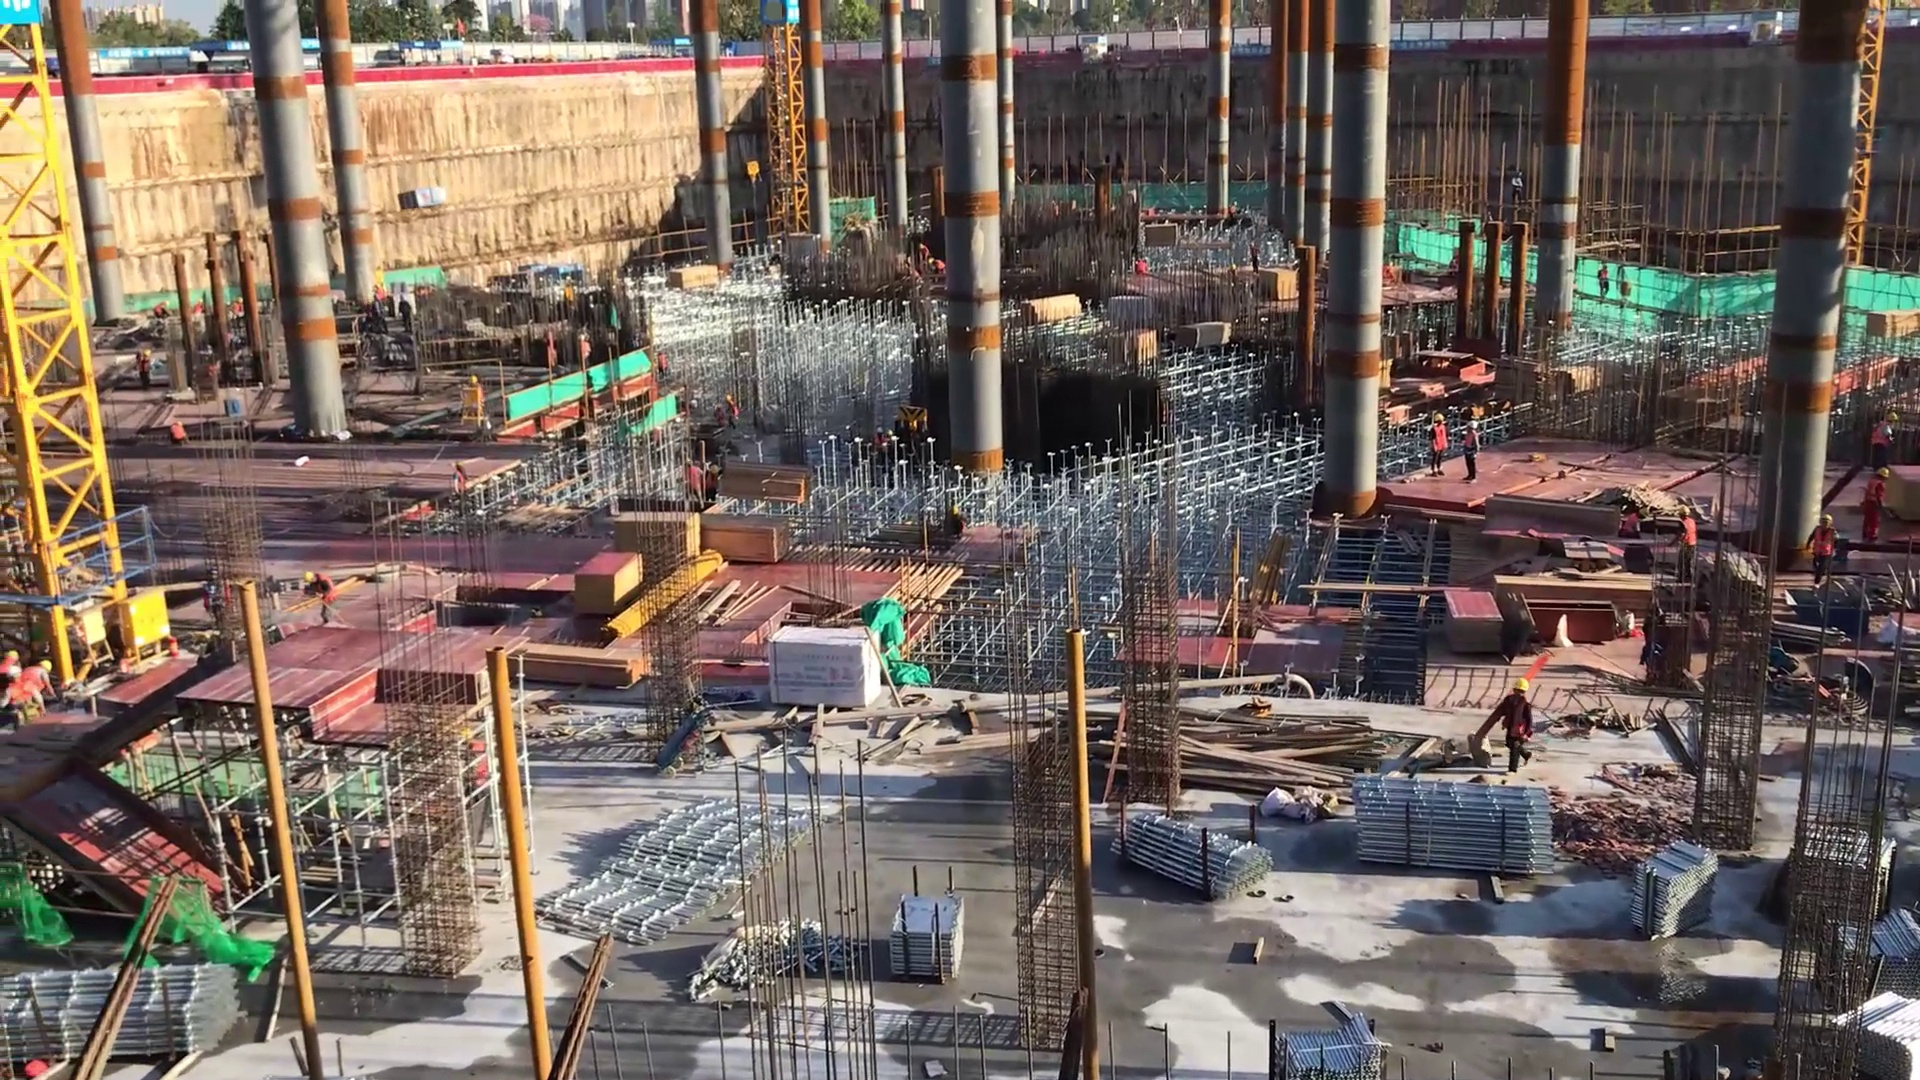board: (617, 510, 702, 567), (574, 548, 641, 617), (1444, 585, 1506, 660), (1258, 265, 1300, 304)
ebox: (119, 582, 175, 677), (72, 597, 108, 672), (461, 377, 490, 427)
helmet: (36, 657, 59, 676), (299, 567, 320, 588), (1511, 675, 1532, 694), (1676, 504, 1694, 518), (1818, 513, 1833, 532), (6, 649, 21, 666), (1876, 468, 1891, 485), (1637, 502, 1650, 519), (709, 462, 722, 479), (1467, 417, 1479, 432), (1435, 410, 1447, 426), (1887, 410, 1900, 423), (876, 423, 886, 437), (726, 390, 734, 405), (579, 332, 586, 343)
hook: (1783, 586, 1872, 637), (893, 401, 937, 442), (745, 153, 765, 188)
hopper: (404, 184, 443, 214)
person: (1491, 672, 1540, 783), (1666, 498, 1707, 589), (1860, 469, 1896, 567), (1804, 512, 1843, 602), (299, 568, 347, 635), (1459, 416, 1492, 493), (1423, 411, 1452, 495), (21, 649, 60, 706), (1873, 411, 1906, 474), (1, 687, 43, 731), (1621, 499, 1654, 541), (1592, 259, 1616, 316), (685, 454, 705, 517), (1, 642, 30, 684), (703, 459, 728, 508), (136, 343, 154, 391), (653, 343, 669, 397), (917, 241, 937, 279), (454, 461, 470, 508), (149, 293, 173, 321), (874, 421, 885, 480), (725, 393, 738, 435), (929, 257, 949, 283), (578, 329, 591, 369)
scaffold: (1, 952, 251, 1067), (1337, 762, 1563, 880), (1112, 805, 1275, 902), (1619, 823, 1725, 966), (1822, 914, 1920, 999), (1272, 1028, 1427, 1080)
slogan: (1388, 39, 1449, 50), (1229, 44, 1269, 57)
vest: (1503, 696, 1533, 747), (1679, 516, 1700, 551), (1460, 428, 1483, 457), (1433, 422, 1450, 459), (315, 573, 334, 604), (1624, 508, 1641, 538)
wood: (1181, 713, 1380, 788), (1494, 569, 1662, 616), (501, 644, 642, 686), (704, 511, 792, 567), (719, 457, 812, 505), (658, 260, 727, 297), (1020, 292, 1088, 329), (1177, 319, 1233, 354), (1867, 304, 1920, 340)
